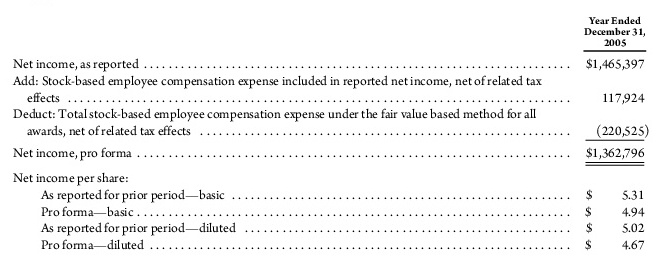table: (0, 0, 662, 266)
